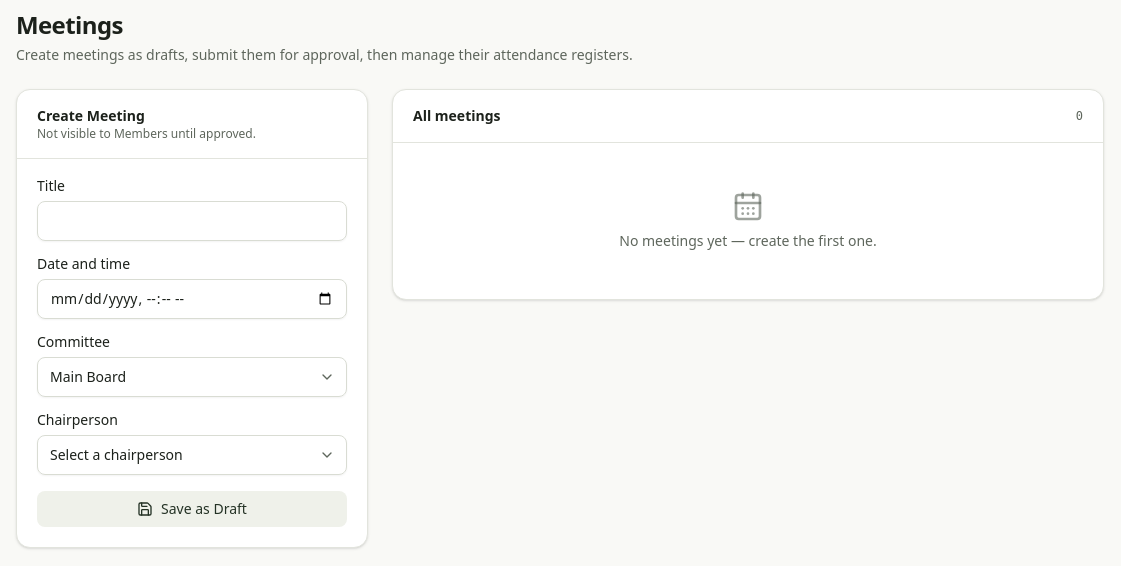
Scenario: StaffMeetings › creates a meeting and shows it with a Draft label, not a status badge
The image size is (1121, 566).
Step 1. Type "Q3 Board Meeting" into the field labelled "Title" → (192, 221), box 37,201 -> 347,241
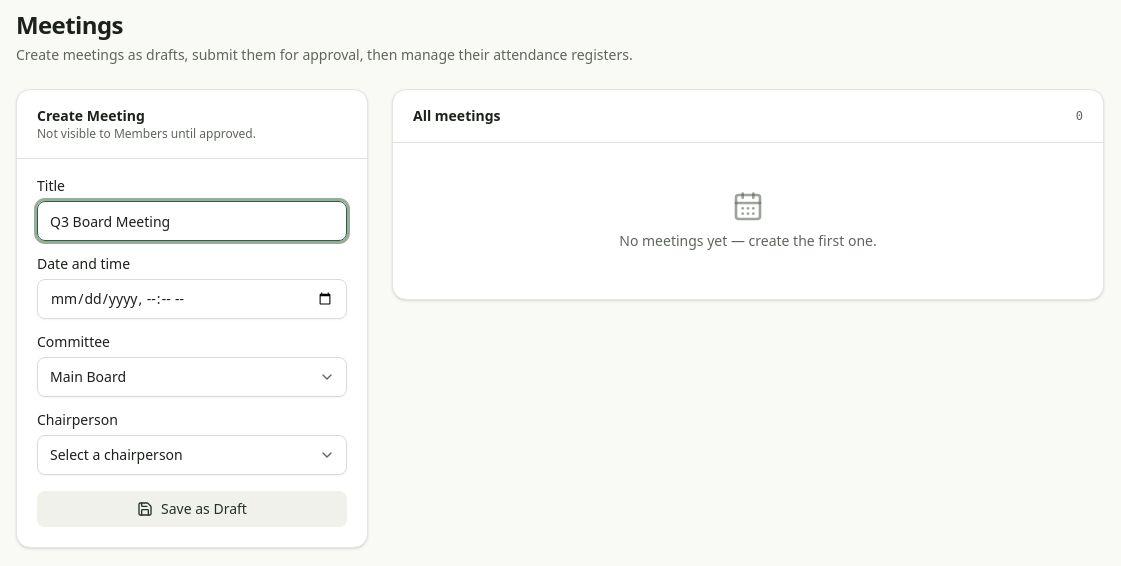
Step 2. Type "2099-01-01T09:00" into the field labelled "Date and time" → (192, 299), box 37,279 -> 347,319
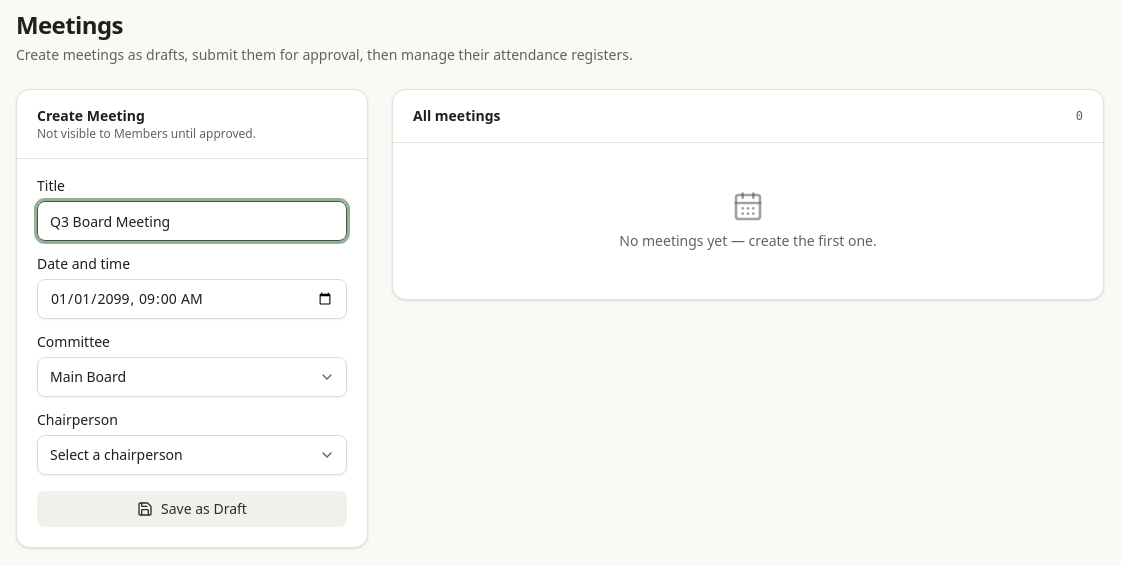
Step 3. Select "Chair One (chair@example.com)" in the dropdown labelled "Chairperson" → (192, 455), box 37,435 -> 347,475
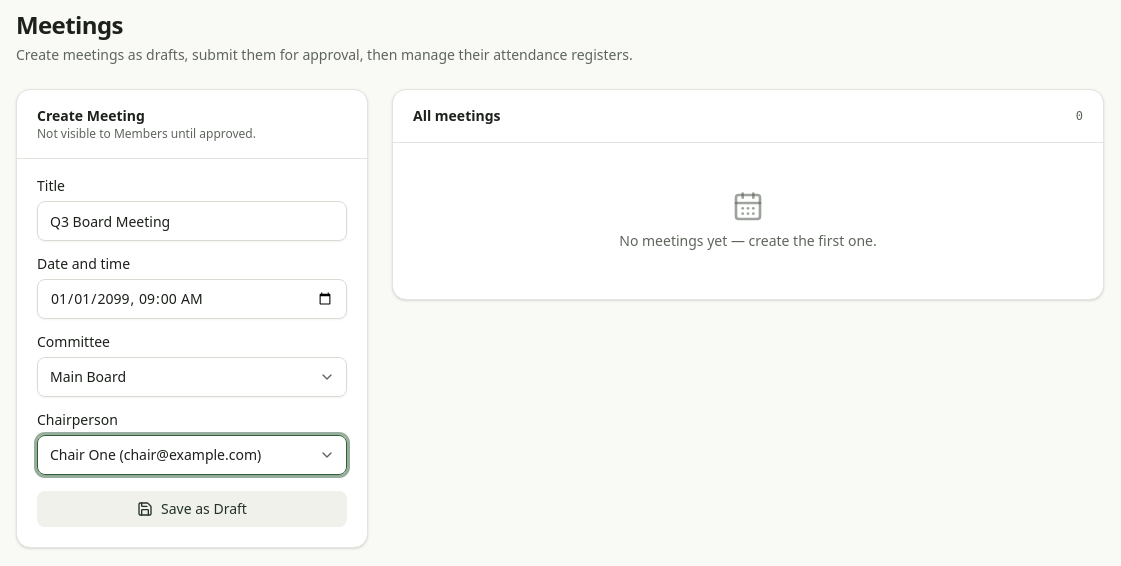
Step 4. Click the button "Save as Draft" → (192, 509), box 37,491 -> 347,527
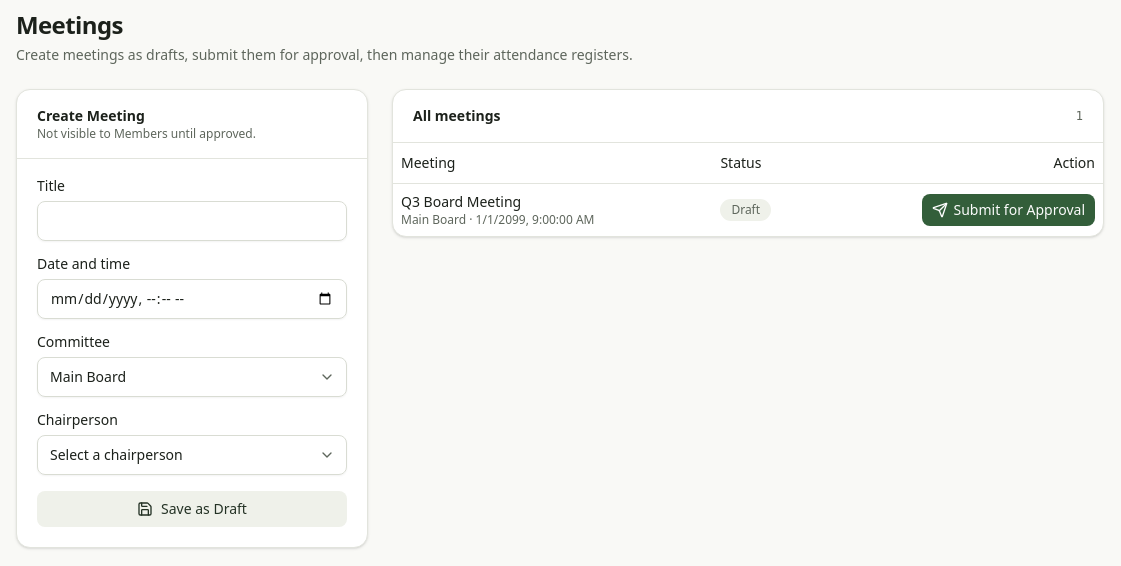
Now the text "Draft" is shown, box 720,198 -> 771,220
